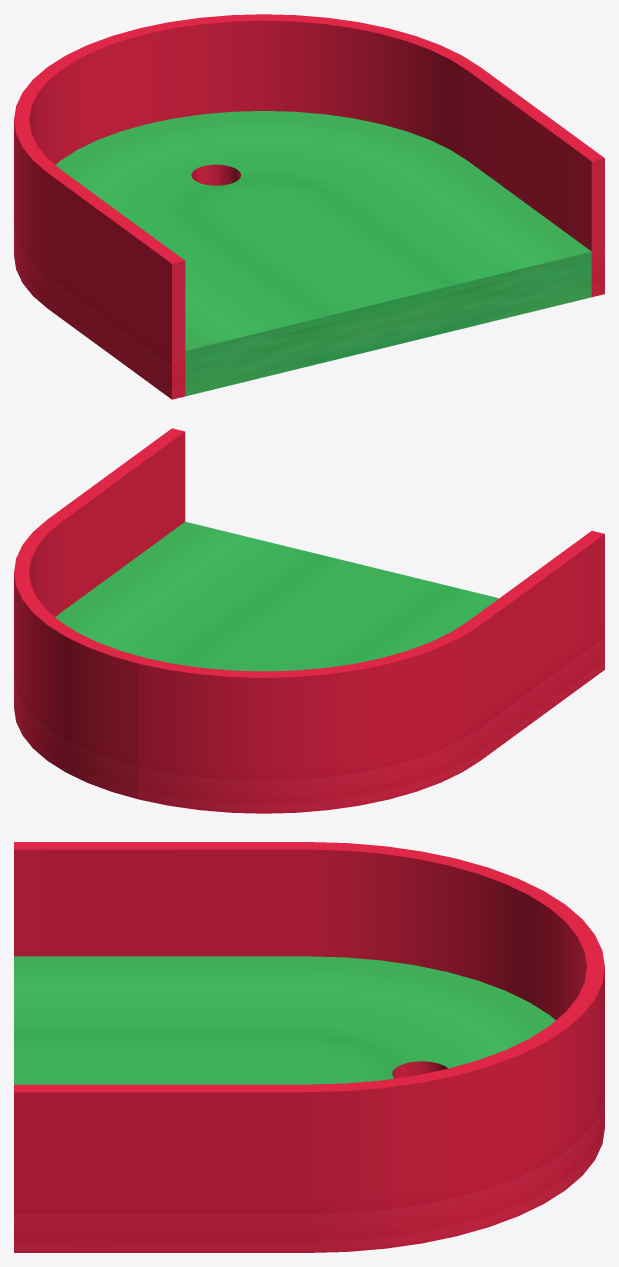
The model's file is Simple_Hole.fbx.
The picture shows the model from 3 angles, top to bottom: view 1: azimuth 30°, elevation 25°; view 2: azimuth 150°, elevation 25°; view 3: azimuth 270°, elevation 25°; orthographic projection. The views are drawn at different scales.
Visible parts, largest first — view 1: Simple_Hole, Fence; view 2: Fence, Simple_Hole; view 3: Fence, Simple_Hole.
Part boxes in pixels (box(x1,y1,x2,y2)): Simple_Hole: box(56, 111, 591, 396); Fence: box(14, 14, 604, 399); Fence: box(14, 428, 604, 813); Simple_Hole: box(55, 521, 498, 671); Fence: box(14, 842, 604, 1252); Simple_Hole: box(14, 956, 555, 1084).
Size of the model in its own units: 100 by 30.07 by 100.
